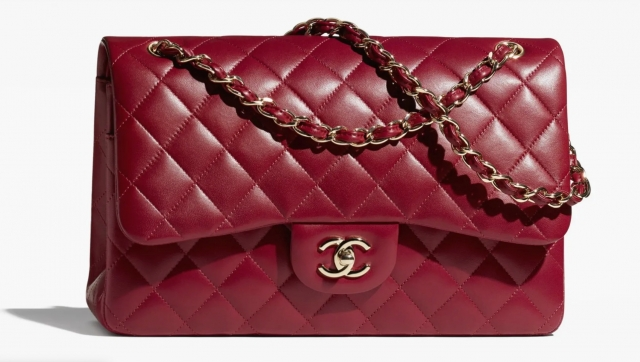channel: (101, 19, 584, 345), (313, 226, 403, 287)
